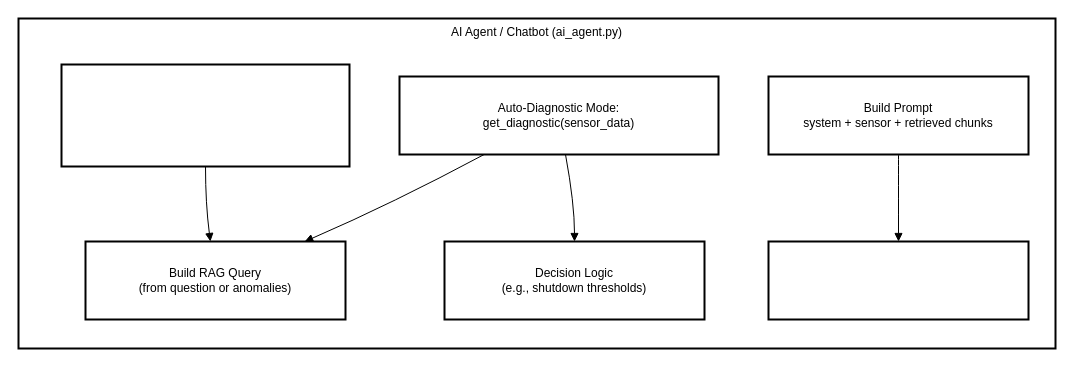
Some shapes in this 1073 by 366 pixel diagram are drawn without their labels. Each missing label, with the centre of its shape:
Chat Mode: ask_question(question, sensor_data?): the point at 205,115
LLM (Gemini) Generate answer/diagnosis: the point at 898,280
